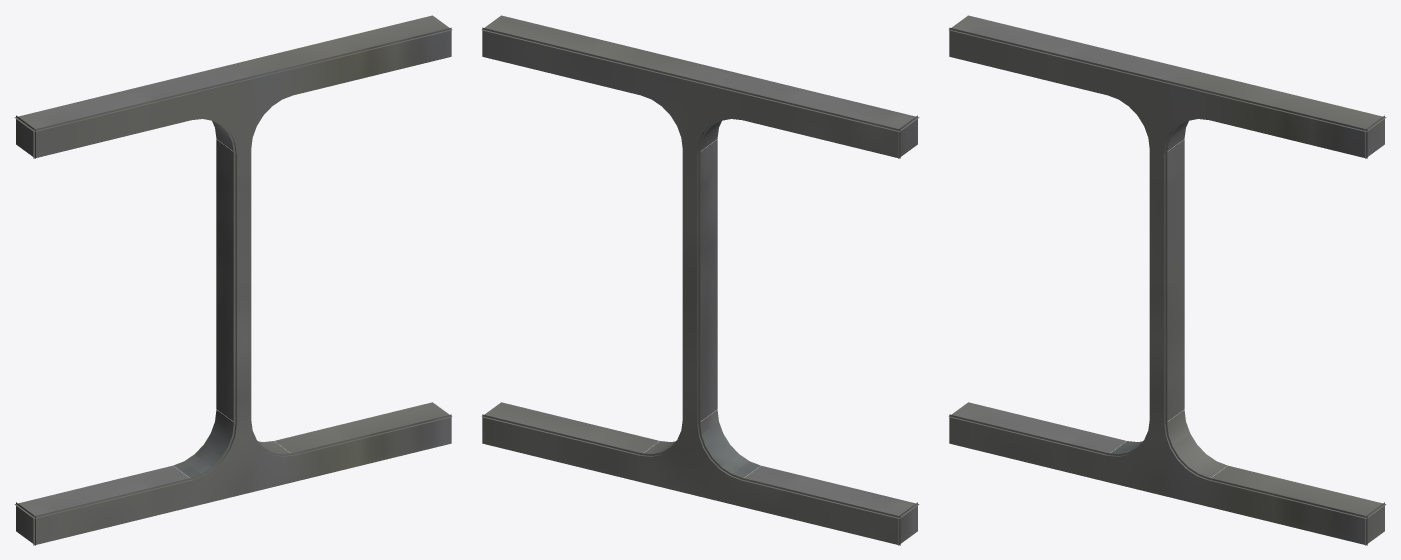
The model's file is HEA120.glb.
3 renders of one model, left to right at view 1: azimuth 30°, elevation 25°; view 2: azimuth 150°, elevation 25°; view 3: azimuth 330°, elevation 25°, orthographic.
Bounding box in the file's own units: 12 × 11.4 × 1.
1 material, 1 textured.
